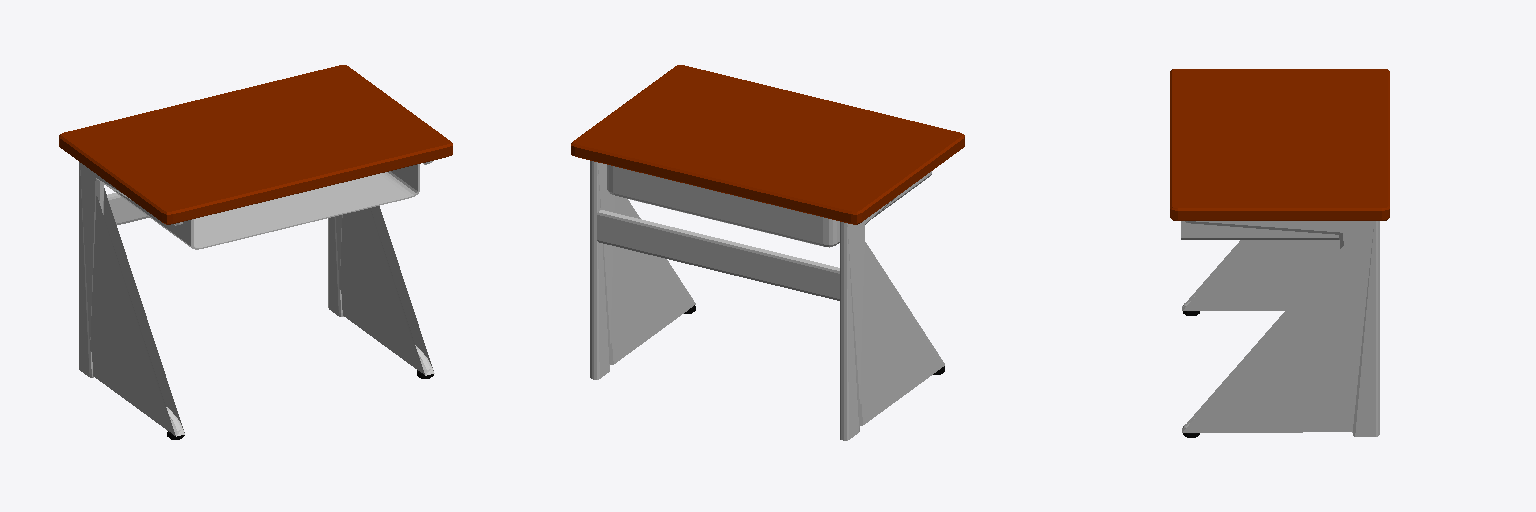
The model's file is table.obj.
3 views of the same model, side by side, from view 1: azimuth 30°, elevation 25°; view 2: azimuth 150°, elevation 25°; view 3: azimuth 270°, elevation 25° (orthographic).
Visible parts, largest first — view 1: Cube, 平面.001_平面, 平面, 立方体, 立方体.001; view 2: Cube, 平面.001_平面, 平面, 立方体.001, 立方体; view 3: Cube, 平面, 平面.001_平面, 立方体.
Boxes of the visible parts, x1=… form: Cube: x1=59, y1=65, x2=452, y2=224; 平面.001_平面: x1=79, y1=162, x2=184, y2=436; 平面: x1=328, y1=161, x2=434, y2=375; 立方体: x1=107, y1=164, x2=419, y2=249; 立方体.001: x1=107, y1=193, x2=149, y2=224; Cube: x1=571, y1=65, x2=964, y2=224; 平面.001_平面: x1=840, y1=198, x2=944, y2=440; 平面: x1=590, y1=161, x2=695, y2=379; 立方体.001: x1=597, y1=210, x2=839, y2=300; 立方体: x1=607, y1=165, x2=931, y2=247; Cube: x1=1170, y1=69, x2=1389, y2=220; 平面: x1=1182, y1=221, x2=1379, y2=436; 平面.001_平面: x1=1182, y1=240, x2=1339, y2=310; 立方体: x1=1181, y1=221, x2=1338, y2=239.
Bounding box in the file's own units: 1.07 × 0.8274 × 0.7044.